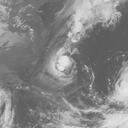cyclone: (45, 41, 81, 85)
